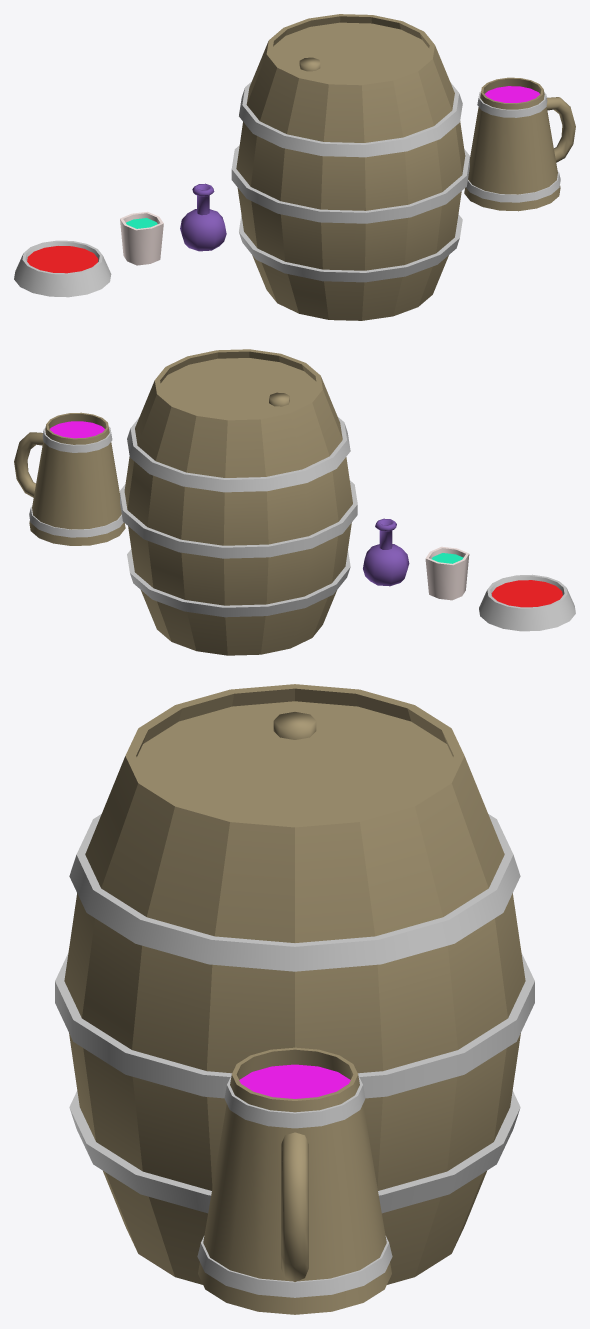
The model's file is potions.fbx.
3 views of the same model, one above another, from view 1: azimuth 30°, elevation 25°; view 2: azimuth 150°, elevation 25°; view 3: azimuth 270°, elevation 25° (orthographic). The views are drawn at different scales.
Parts seen in each view (by area): view 1: sud, pivo, Cylinder.001, potka, Cylinder; view 2: sud, pivo, Cylinder.001, potka, Cylinder; view 3: sud, pivo.
Boxes of the visible parts, bbox=[...] form: sud: bbox=[231, 14, 469, 320]; pivo: bbox=[464, 77, 575, 211]; Cylinder.001: bbox=[14, 240, 111, 297]; potka: bbox=[180, 183, 226, 251]; Cylinder: bbox=[120, 211, 163, 265]; sud: bbox=[120, 349, 357, 655]; pivo: bbox=[14, 412, 125, 545]; Cylinder.001: bbox=[479, 574, 575, 631]; potka: bbox=[363, 518, 409, 586]; Cylinder: bbox=[425, 546, 469, 600]; sud: bbox=[55, 684, 534, 1284]; pivo: bbox=[197, 1047, 392, 1314].
Bounding box in the file's own units: 674 × 273 × 252.
